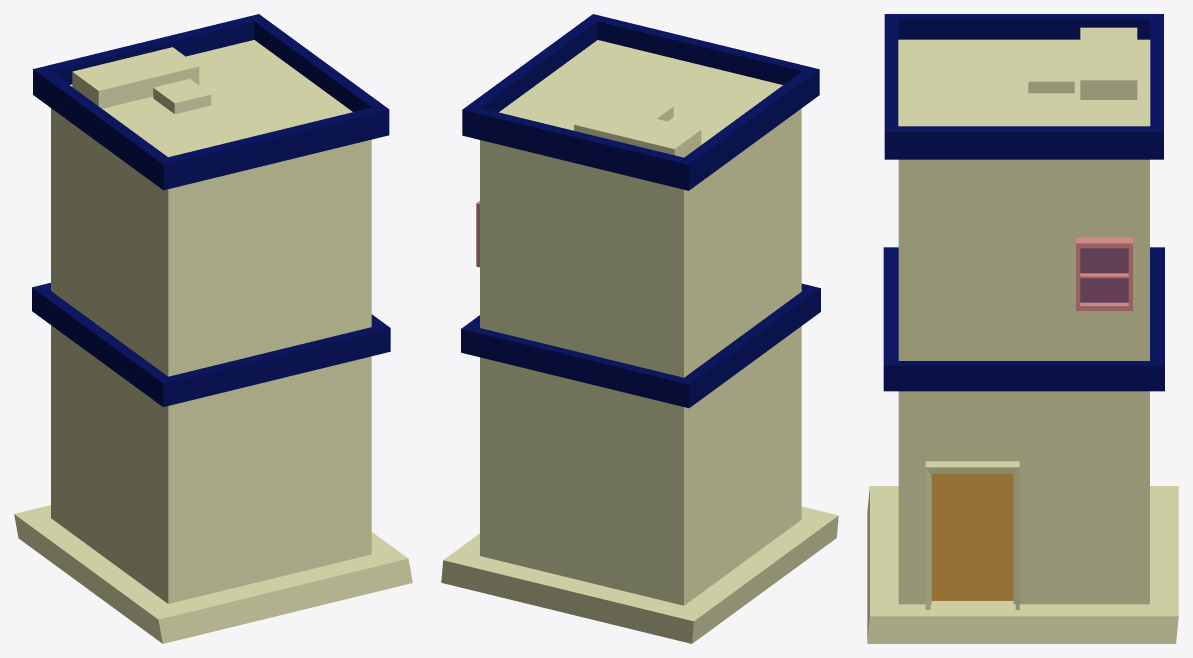
Rendered from House.fbx.
The picture shows the model from 3 angles, left to right: view 1: azimuth 30°, elevation 25°; view 2: azimuth 150°, elevation 25°; view 3: azimuth 270°, elevation 25°; orthographic projection. The views are drawn at different scales.
Visible parts, largest first — view 1: Cube; view 2: Cube; view 3: Cube.
Boxes of the visible parts, box(x1,y1,x2,y2) form: Cube: box(14, 14, 412, 643); Cube: box(441, 14, 838, 643); Cube: box(867, 14, 1178, 643).
Size of the model in its own units: 769 by 1368 by 766.
